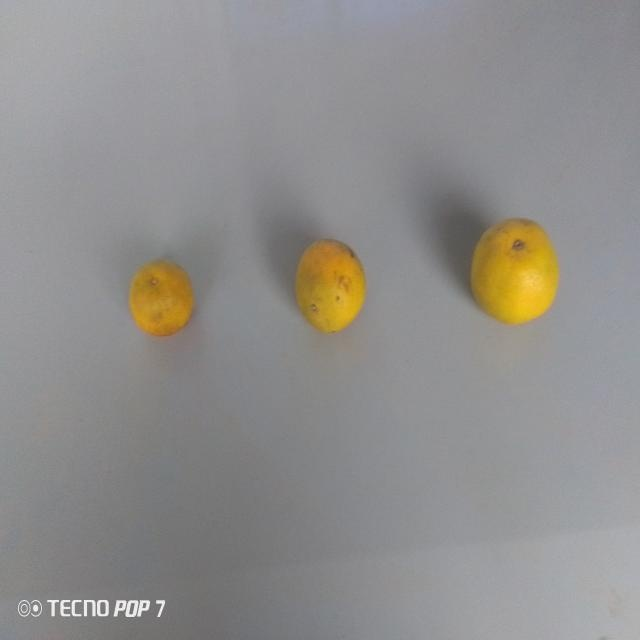agrume: (463, 209, 565, 330), (289, 233, 372, 343), (126, 250, 205, 350)
